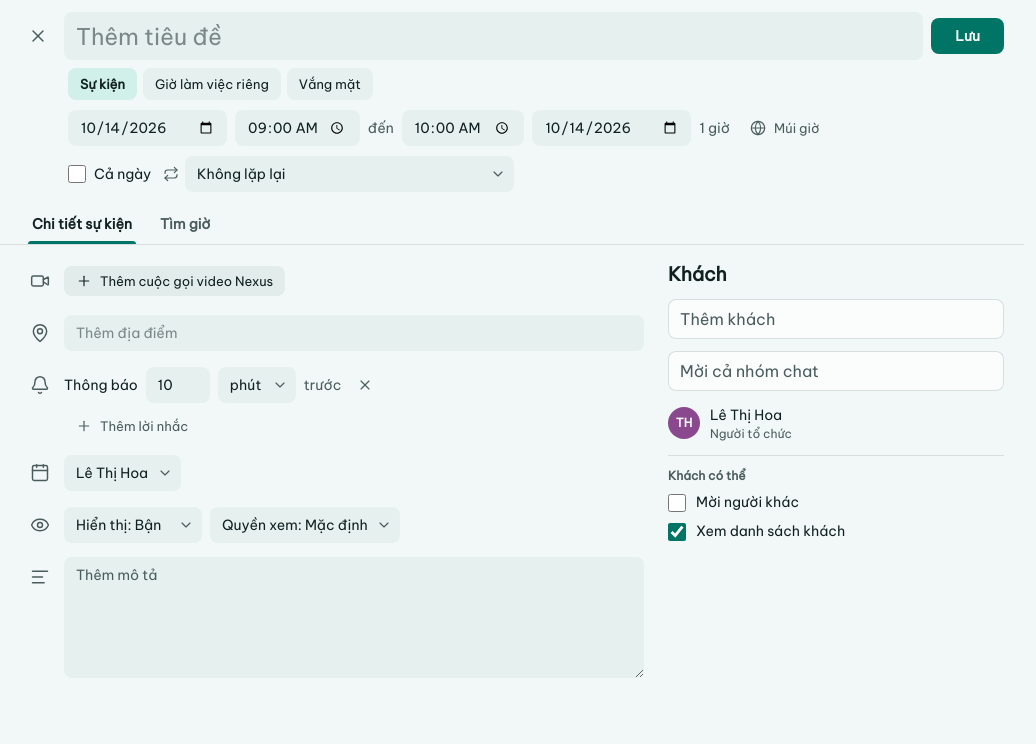
Test: Tìm giờ › says so when nobody shares a free hour, and offers tomorrow
The width and height of the screenshot is (1036, 744).
Type "Yến" into the dropdown labelled "Thêm khách" at (836, 319), box [680,305,992,333]
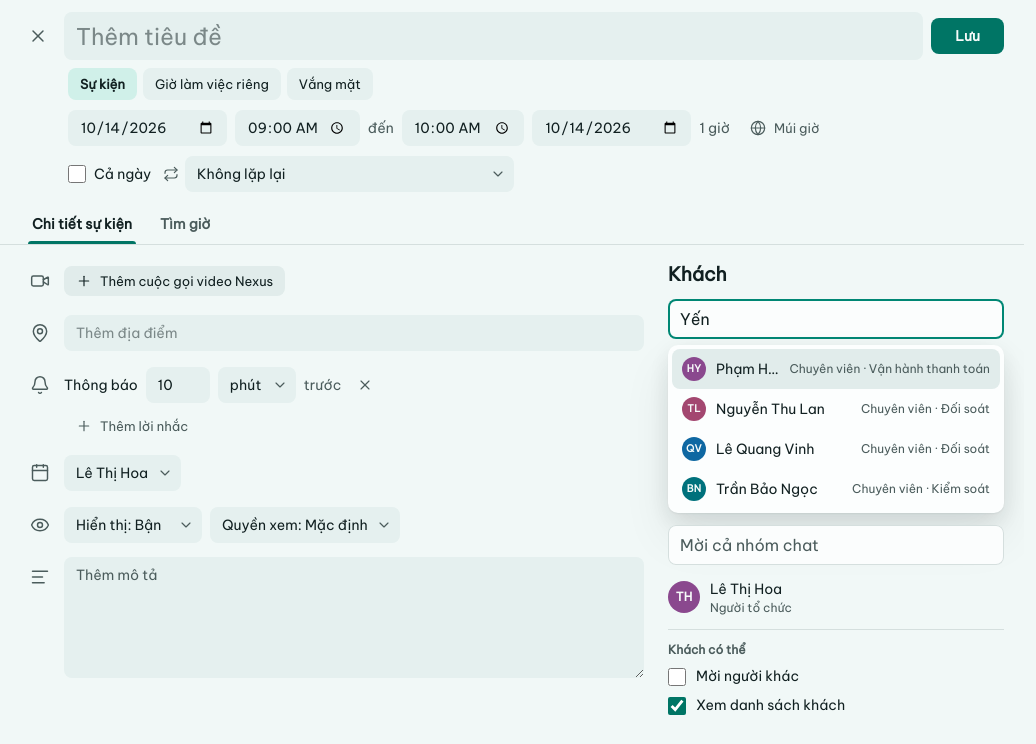
Click the option "HY Phạm Hải Yến Chuyên viên · Vận hành thanh toán" at (836, 369), box [672,349,1000,389]
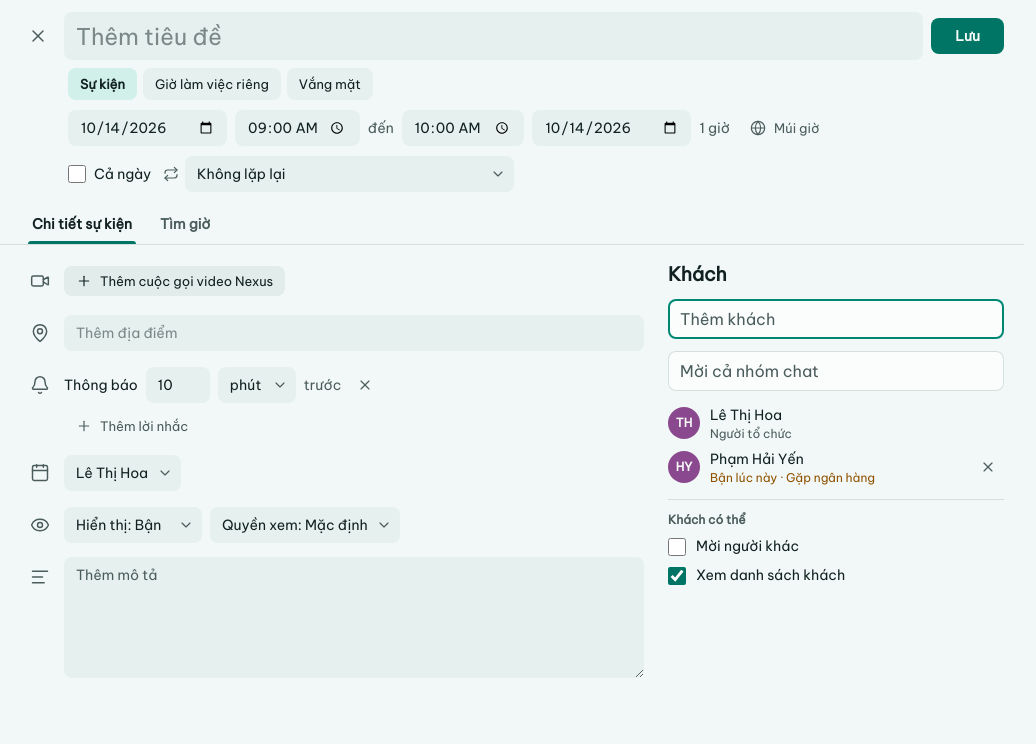
Click the tab "Tìm giờ" at (185, 224), box [148,204,222,244]
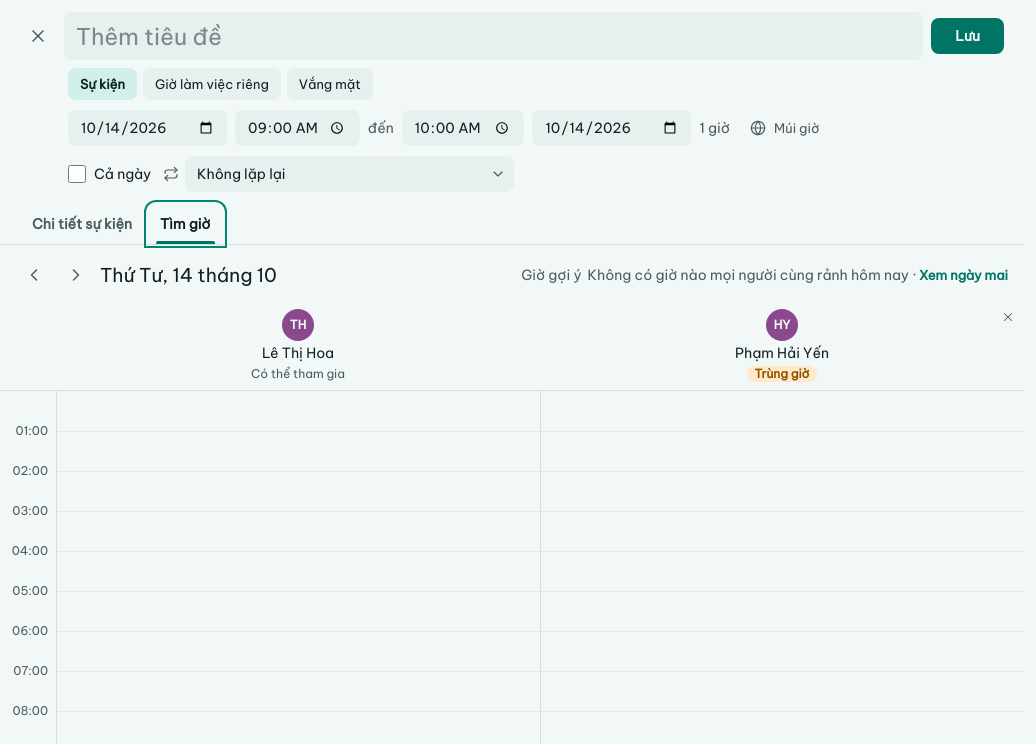
Expected: the text "Không có giờ nào mọi người cùng rảnh hôm nay · Xem ngày mai" is shown, [588,264,1008,286]
Click the button "Xem ngày mai" at (964, 274), box [919,266,1008,284]
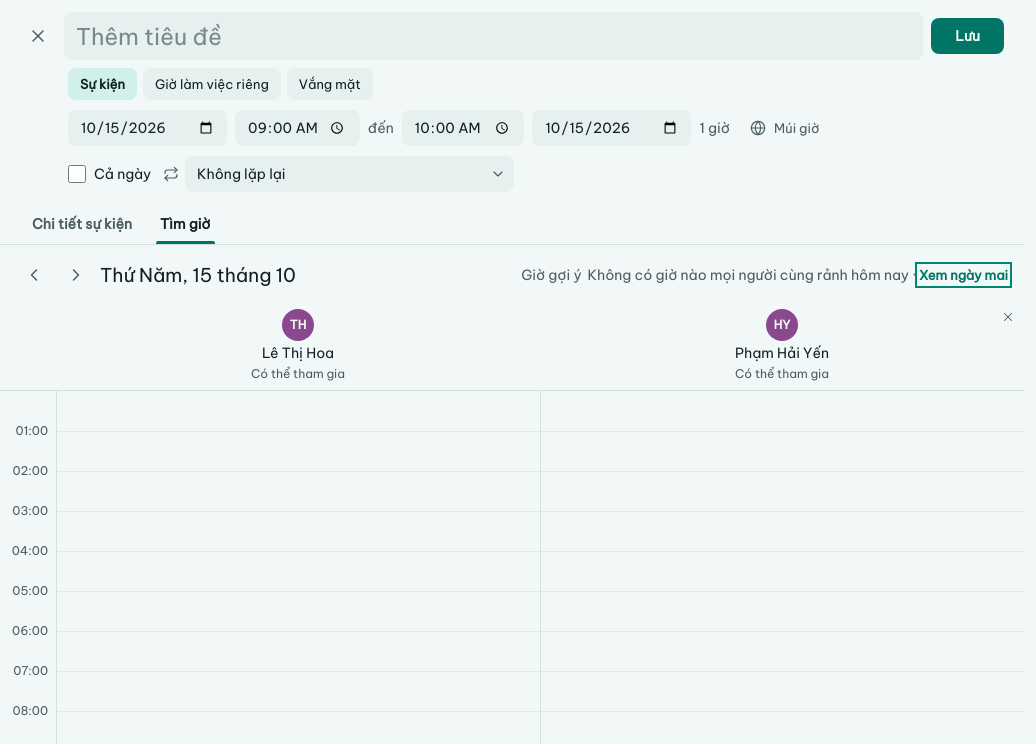
Expected: the text "Thứ Năm, 15 tháng 10" is shown, [100,262,296,288]
